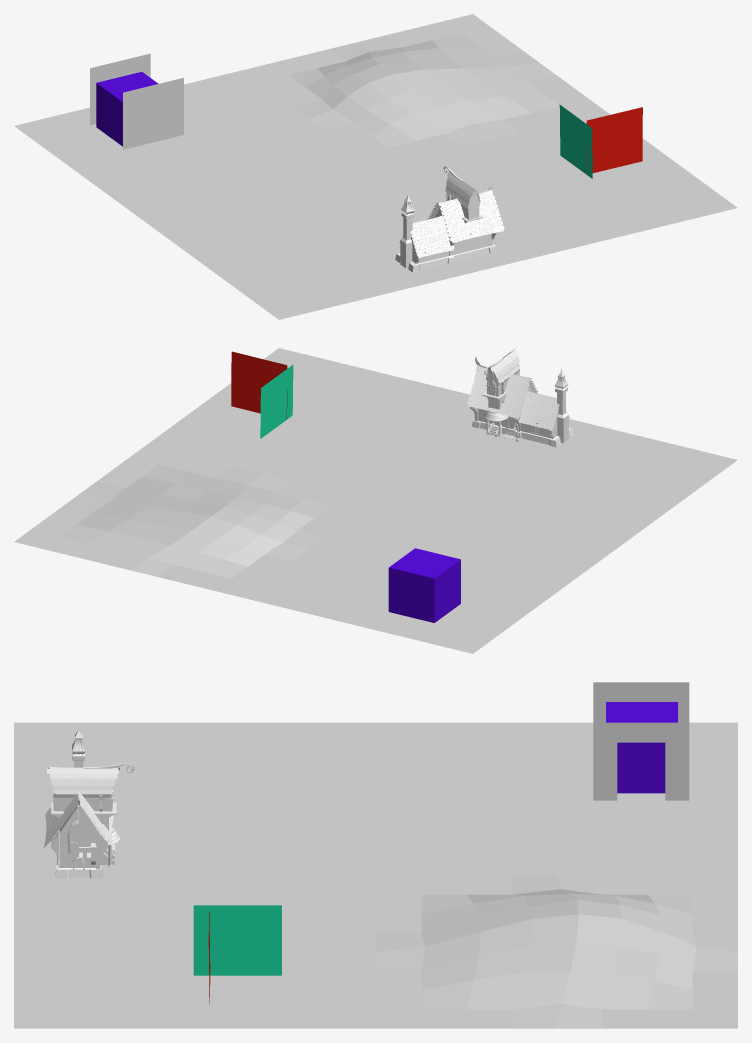
Rendered from level6.glb.
The picture shows the model from 3 angles, top to bottom: view 1: azimuth 30°, elevation 25°; view 2: azimuth 150°, elevation 25°; view 3: azimuth 270°, elevation 25°; orthographic projection. The views are drawn at different scales.
Visible parts, largest first — view 1: ground, house, wall, red_plane, blue_cube, green_plane; view 2: ground, house, blue_cube, red_plane, green_plane; view 3: ground, house, wall, green_plane, blue_cube.
Boxes of the visible parts, x1=… form: ground: x1=14, y1=14, x2=737, y2=319; house: x1=395, y1=166, x2=504, y2=272; wall: x1=90, y1=53, x2=183, y2=149; red_plane: x1=586, y1=107, x2=642, y2=174; blue_cube: x1=96, y1=72, x2=158, y2=146; green_plane: x1=559, y1=104, x2=592, y2=178; ground: x1=14, y1=348, x2=737, y2=653; house: x1=467, y1=348, x2=573, y2=447; blue_cube: x1=388, y1=548, x2=460, y2=622; red_plane: x1=231, y1=351, x2=287, y2=419; green_plane: x1=260, y1=365, x2=293, y2=438; ground: x1=14, y1=722, x2=737, y2=1028; house: x1=44, y1=727, x2=134, y2=878; wall: x1=593, y1=682, x2=689, y2=800; green_plane: x1=193, y1=905, x2=281, y2=975; blue_cube: x1=606, y1=702, x2=677, y2=793.
Size of the model in its own units: 16.36 by 2.71 by 16.36.
